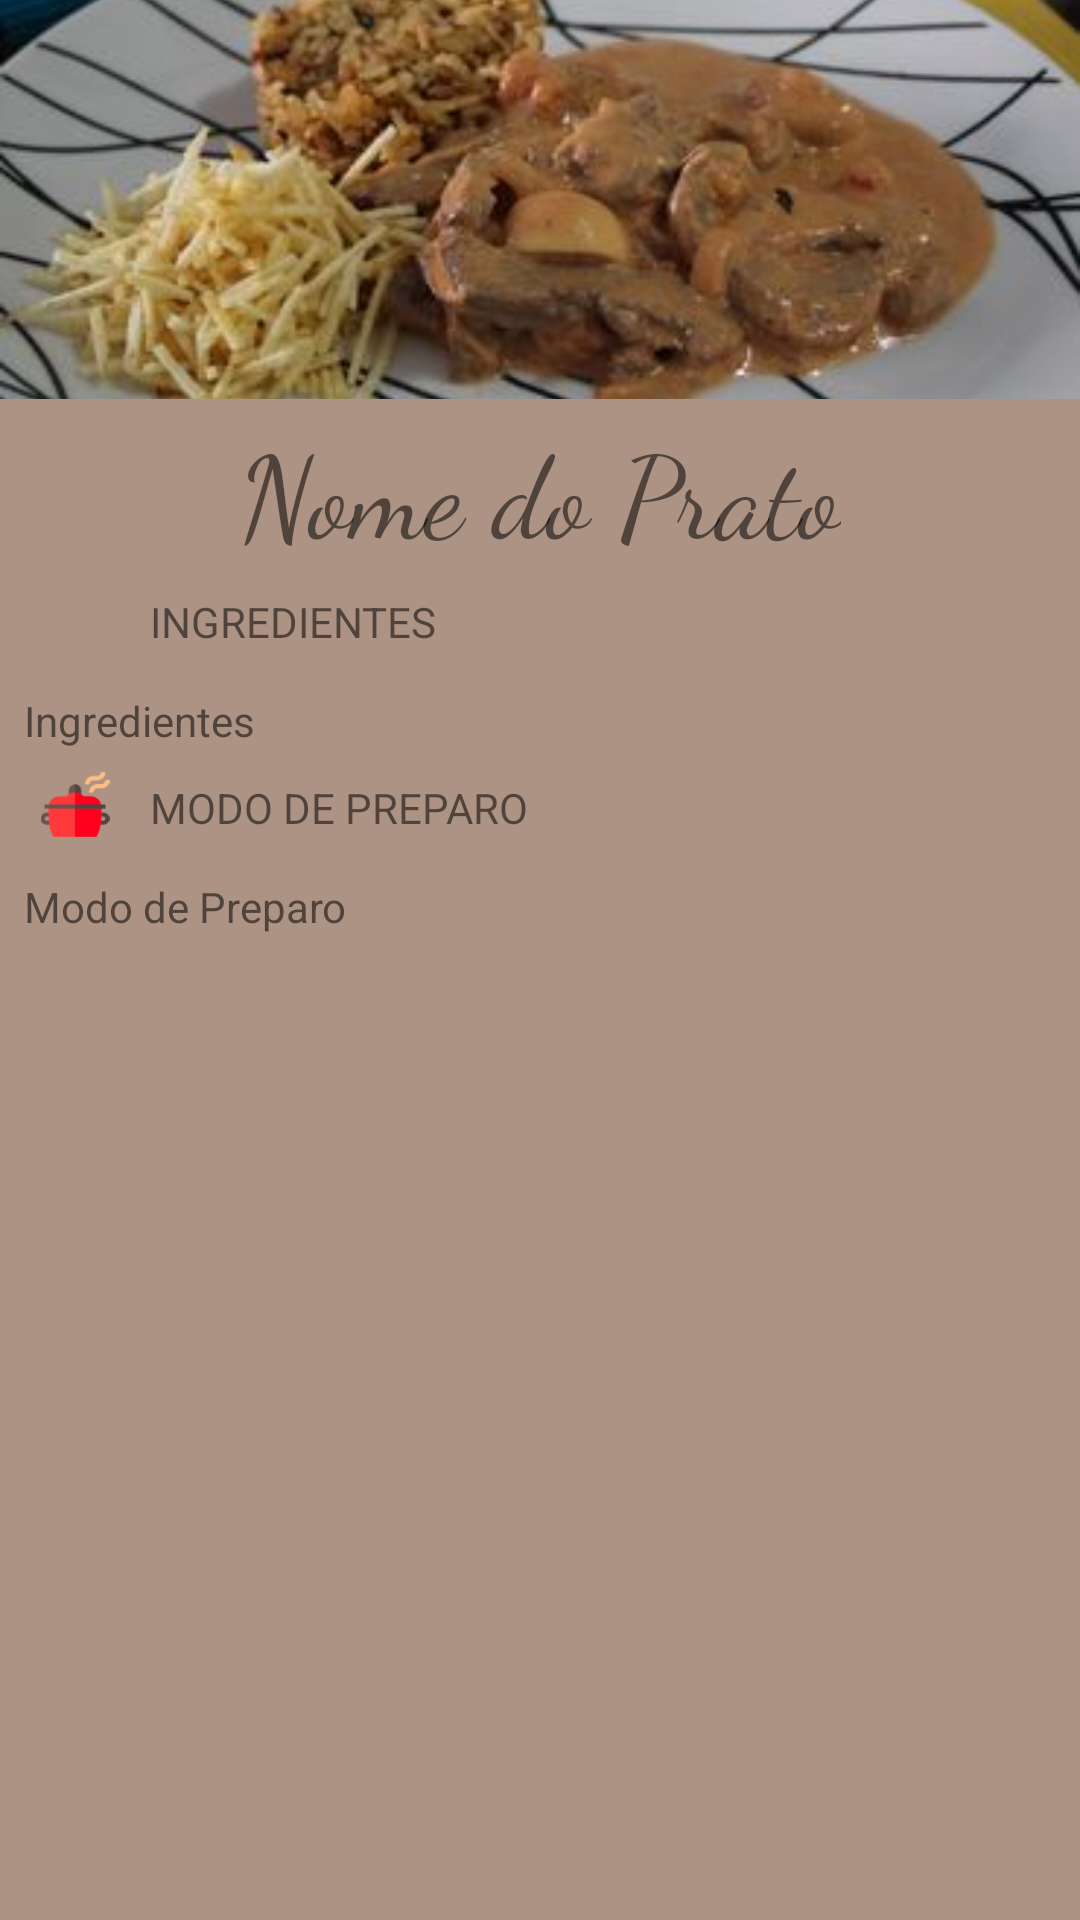

Icons on this 1080 x 1920 Android screen, each with its box as (x1, y1, x2, y2):
pot: (41, 772, 110, 837)
